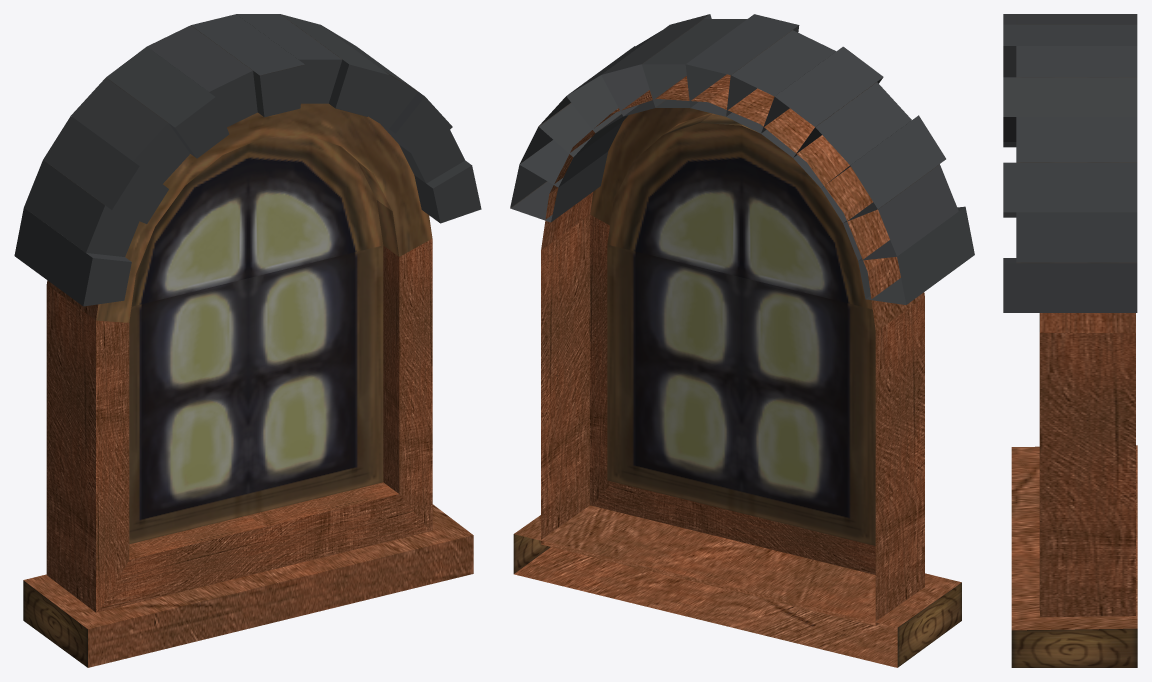
Rendered from fanasty_mod_lar_window.fbx.
3 views of the same model, side by side, from view 1: azimuth 30°, elevation 25°; view 2: azimuth 150°, elevation 25°; view 3: azimuth 270°, elevation 25° (orthographic). The views are drawn at different scales.
Visible parts, largest first — view 1: large_window; view 2: large_window; view 3: large_window.
Part boxes in pixels (x1,y1,x2,y2): large_window: (14, 14, 481, 667); large_window: (510, 14, 974, 667); large_window: (1003, 14, 1137, 667).
Bounding box in the file's own units: 1.75 × 2.33 × 0.5262.
